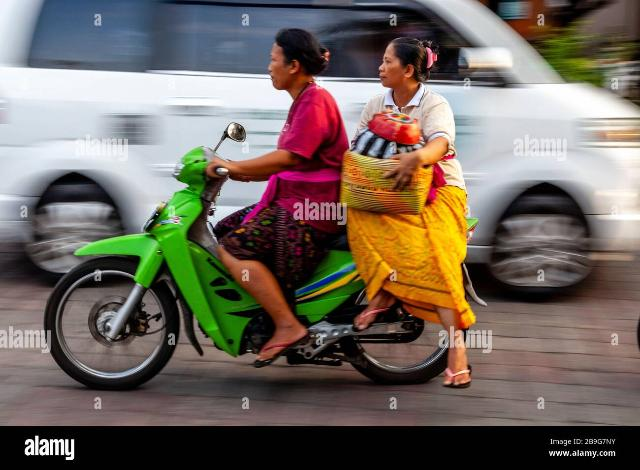motor: (48, 121, 458, 387)
non-helm: (270, 30, 324, 91), (380, 38, 434, 89)
